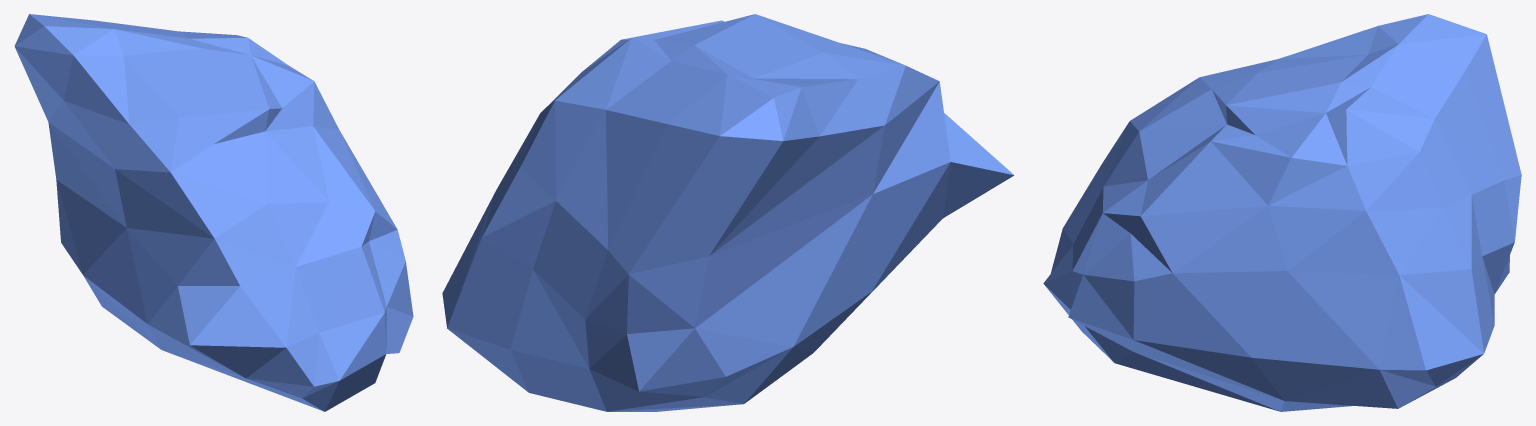
Rendered from rock_001.fbx.
3 renders of one model, left to right at view 1: azimuth 30°, elevation 25°; view 2: azimuth 150°, elevation 25°; view 3: azimuth 270°, elevation 25°, orthographic. The views are drawn at different scales.
Visible parts, largest first — view 1: rock_001; view 2: rock_001; view 3: rock_001.
Part boxes in pixels (bbox=[...]): rock_001: bbox=[14, 14, 413, 411]; rock_001: bbox=[442, 14, 1014, 411]; rock_001: bbox=[1043, 14, 1521, 411].
Bounding box in the file's own units: 339 × 342 × 473.
